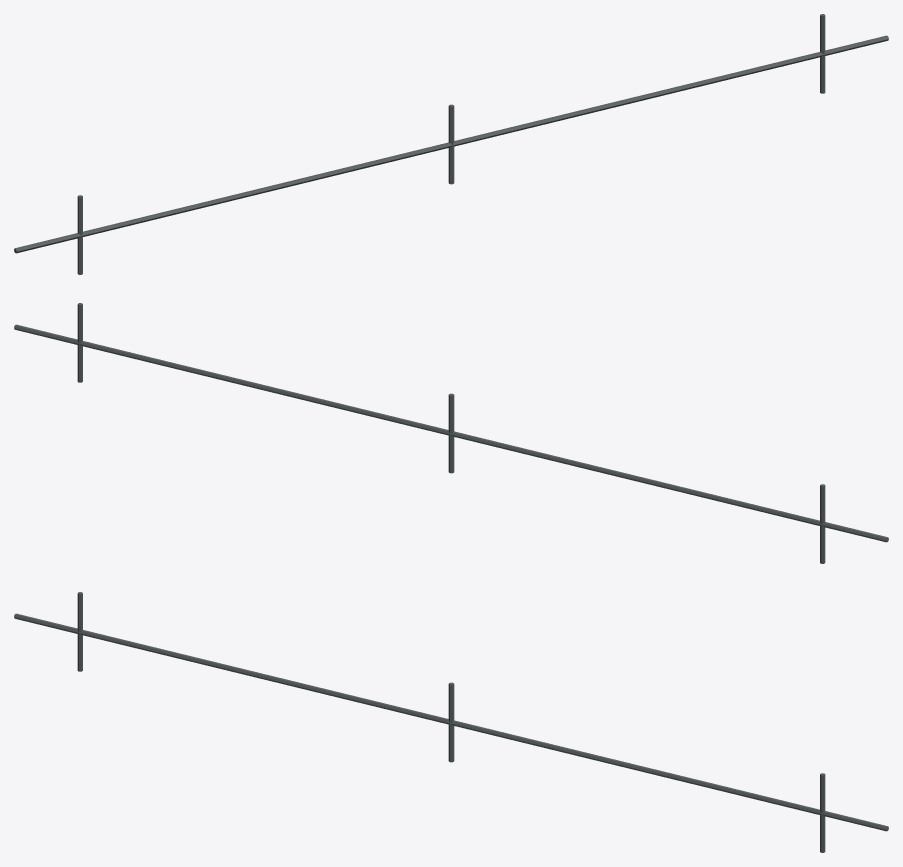
Rendered from bunting.glb.
3 renders of one model, top to bottom at view 1: azimuth 30°, elevation 25°; view 2: azimuth 150°, elevation 25°; view 3: azimuth 330°, elevation 25°, orthographic.
Size of the model in its own units: 3.76 by 0.3199 by 0.0202.
1 material, 1 textured.
